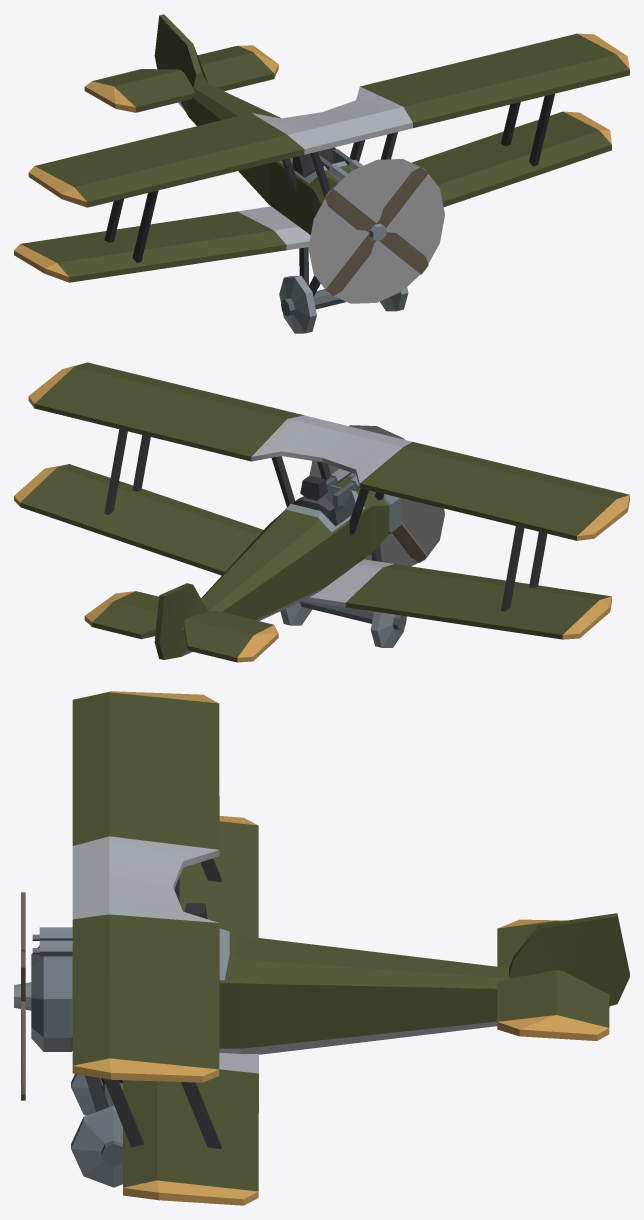
The model's file is SM_Veh_Biplane_01.fbx.
3 views of the same model, one above another, from view 1: azimuth 30°, elevation 25°; view 2: azimuth 150°, elevation 25°; view 3: azimuth 270°, elevation 25° (orthographic). The views are drawn at different scales.
Visible parts, largest first — view 1: SM_Veh_Biplane_01; view 2: SM_Veh_Biplane_01; view 3: SM_Veh_Biplane_01.
Boxes of the visible parts, x1,y1,x2,y2 form: SM_Veh_Biplane_01: [14, 14, 629, 333]; SM_Veh_Biplane_01: [14, 362, 629, 662]; SM_Veh_Biplane_01: [14, 691, 629, 1205].
Bounding box in the file's own units: 69.67 × 23.77 × 47.53.
